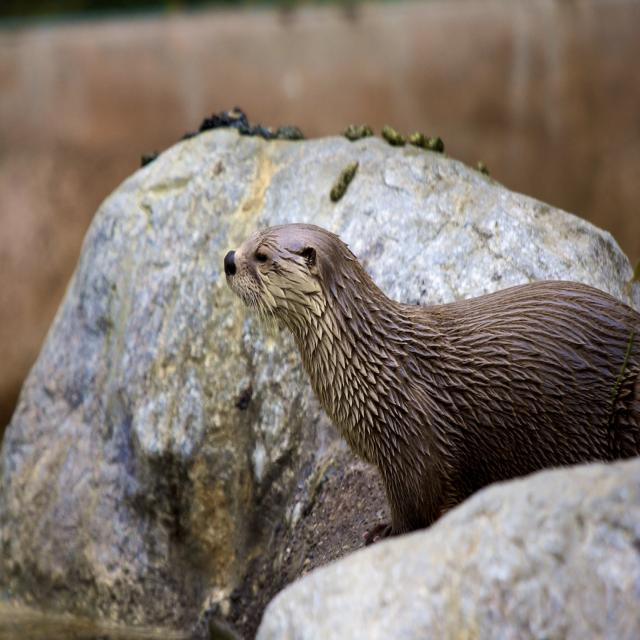otter: (226, 222, 640, 537)
